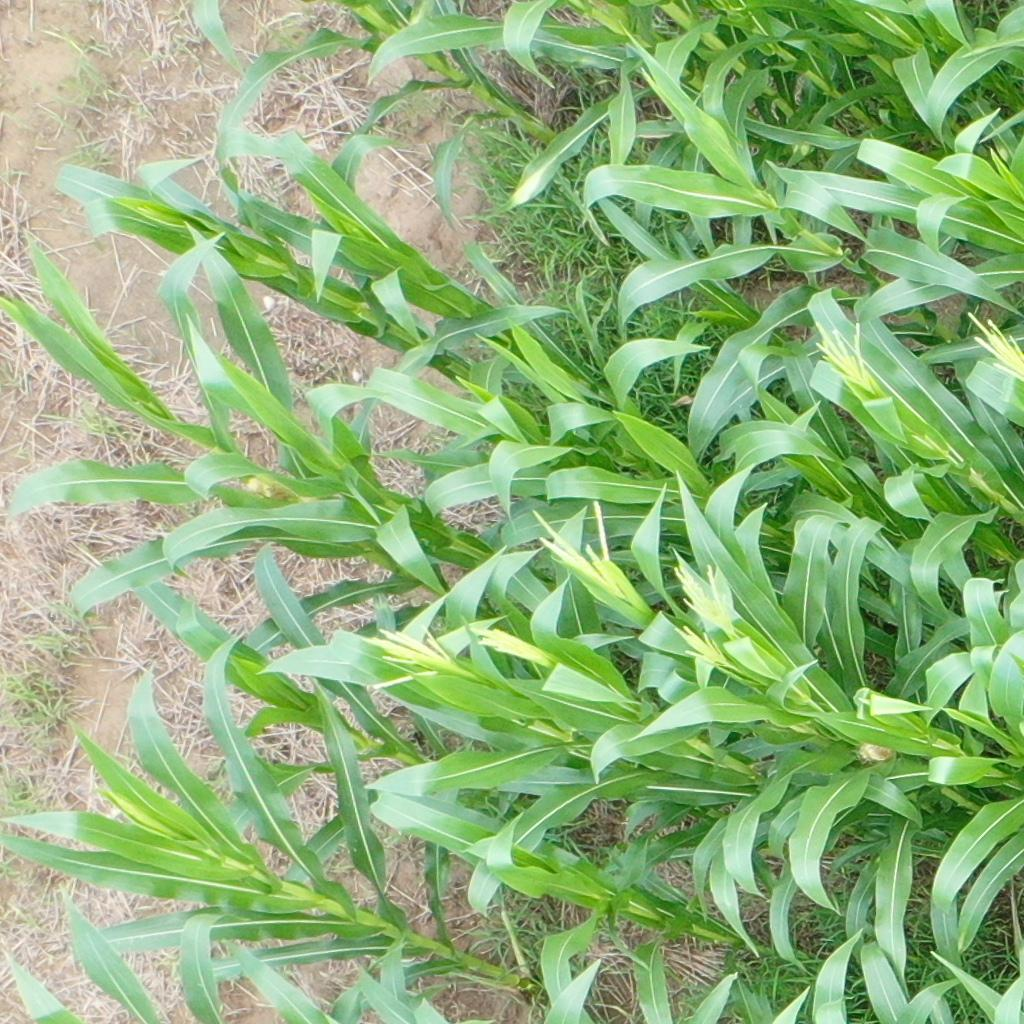Tassel: (518, 498, 635, 604), (663, 547, 750, 643), (807, 312, 889, 406), (356, 617, 455, 691), (465, 620, 558, 670), (965, 310, 1024, 382), (674, 623, 744, 672)
